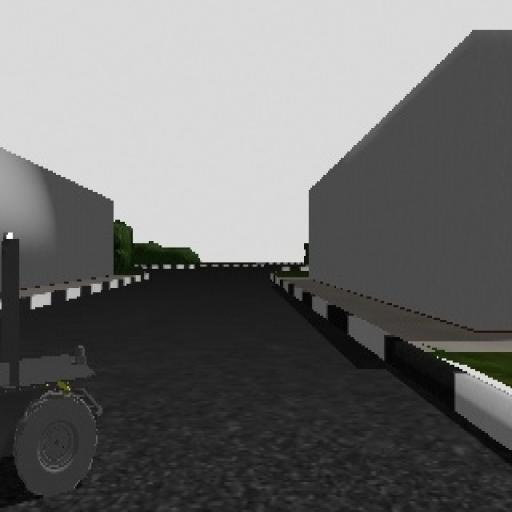huskya200: (0, 209, 110, 512)
